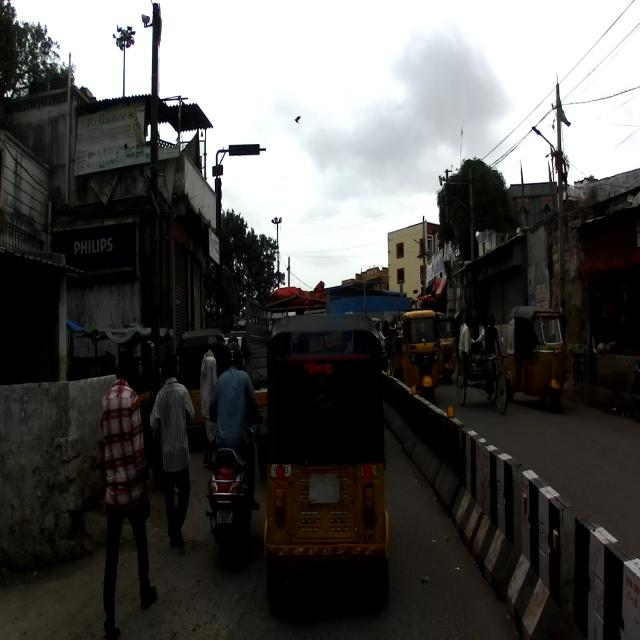autorickshaw: (260, 310, 392, 613), (504, 302, 570, 413), (174, 326, 226, 449), (388, 304, 441, 402)
scooter: (202, 408, 263, 564)
